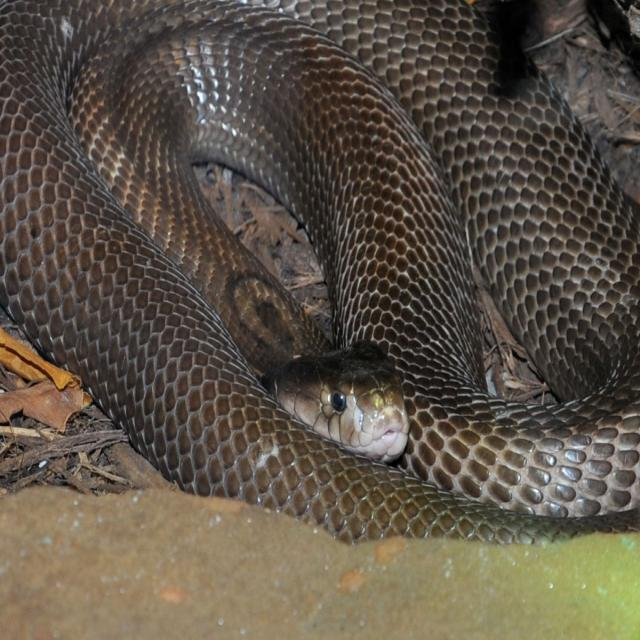Snake: (0, 0, 638, 547)
